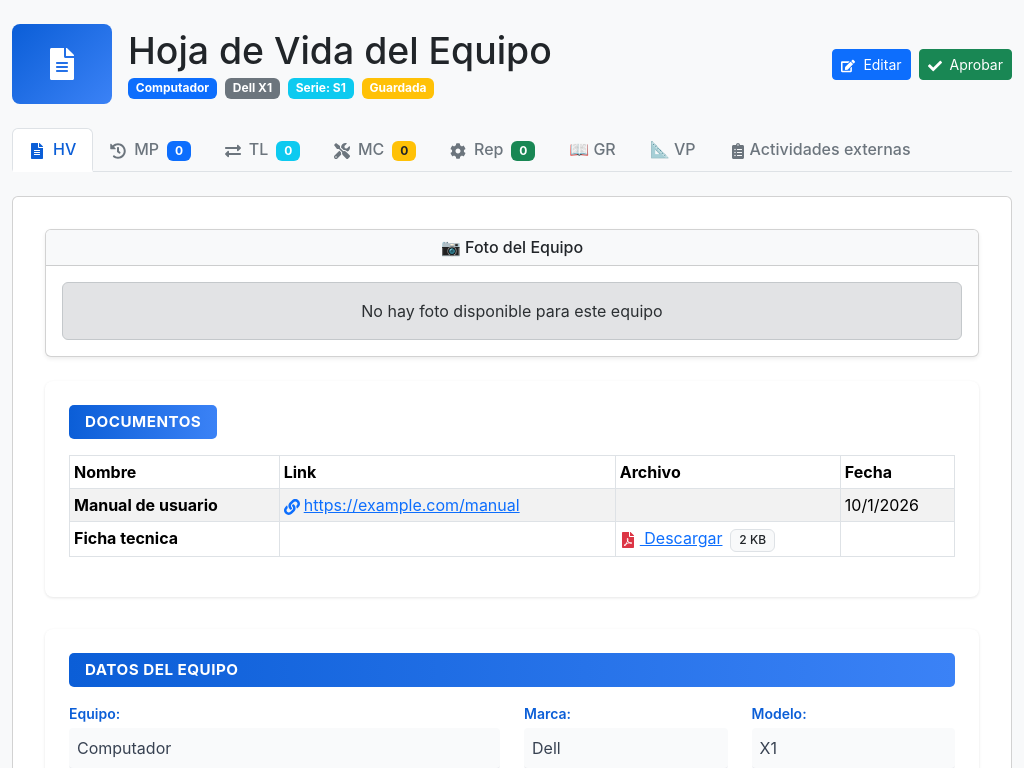
Test: HVEquipoPage - documentos › opens the modal when clicking "Agregar Documento" in edit mode
What coordinates should you click on to do the following:
click the button "Editar"
I would click on:
 (871, 64)
Its box is top-left (832, 48), bottom-right (910, 80).
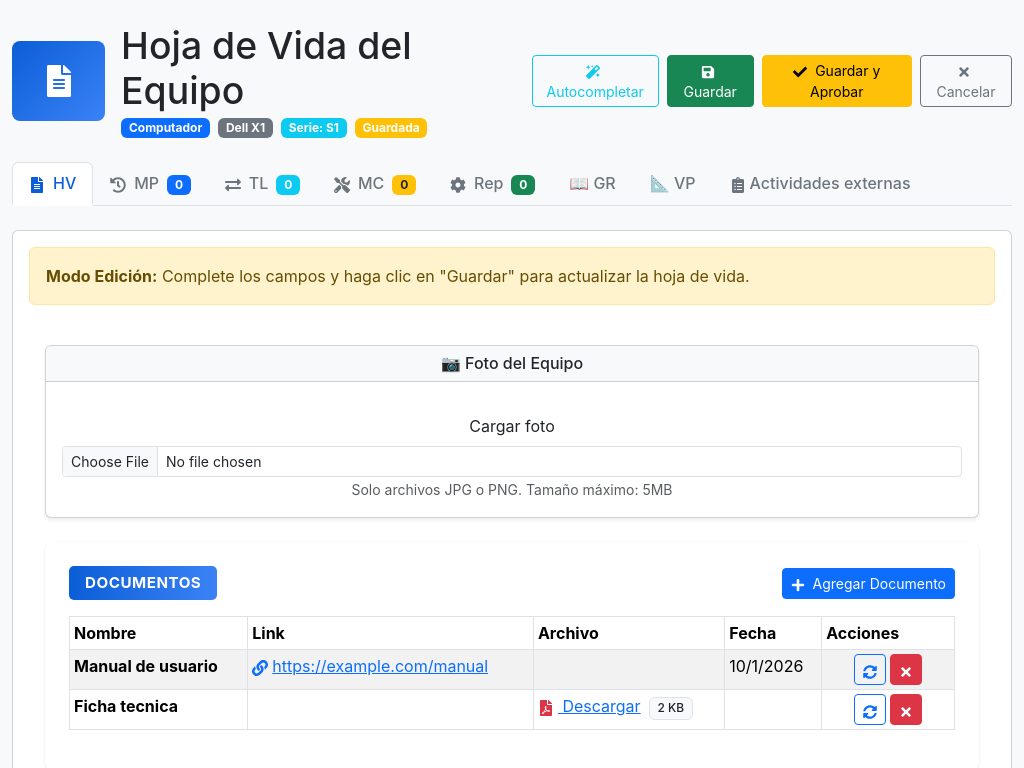
What coordinates should you click on to do the following:
click the button "Agregar Documento"
I would click on:
 (868, 583)
Its box is top-left (782, 568), bottom-right (955, 599).
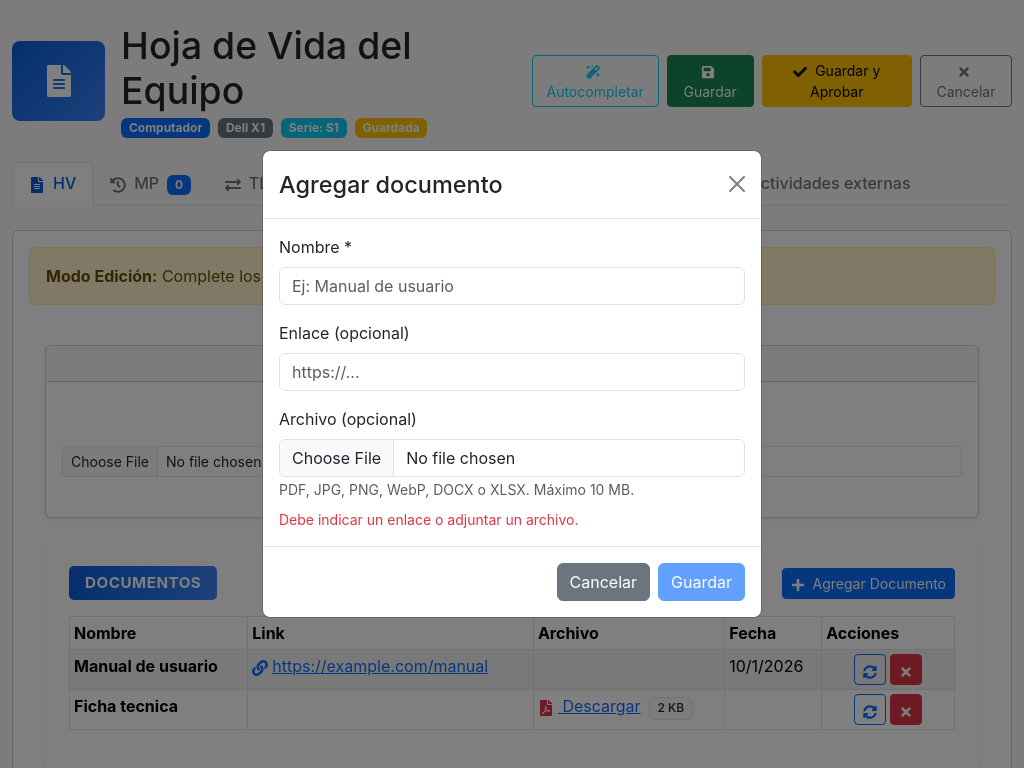
Result: the text "Agregar documento" is shown at top-left (279, 167), bottom-right (503, 202)
